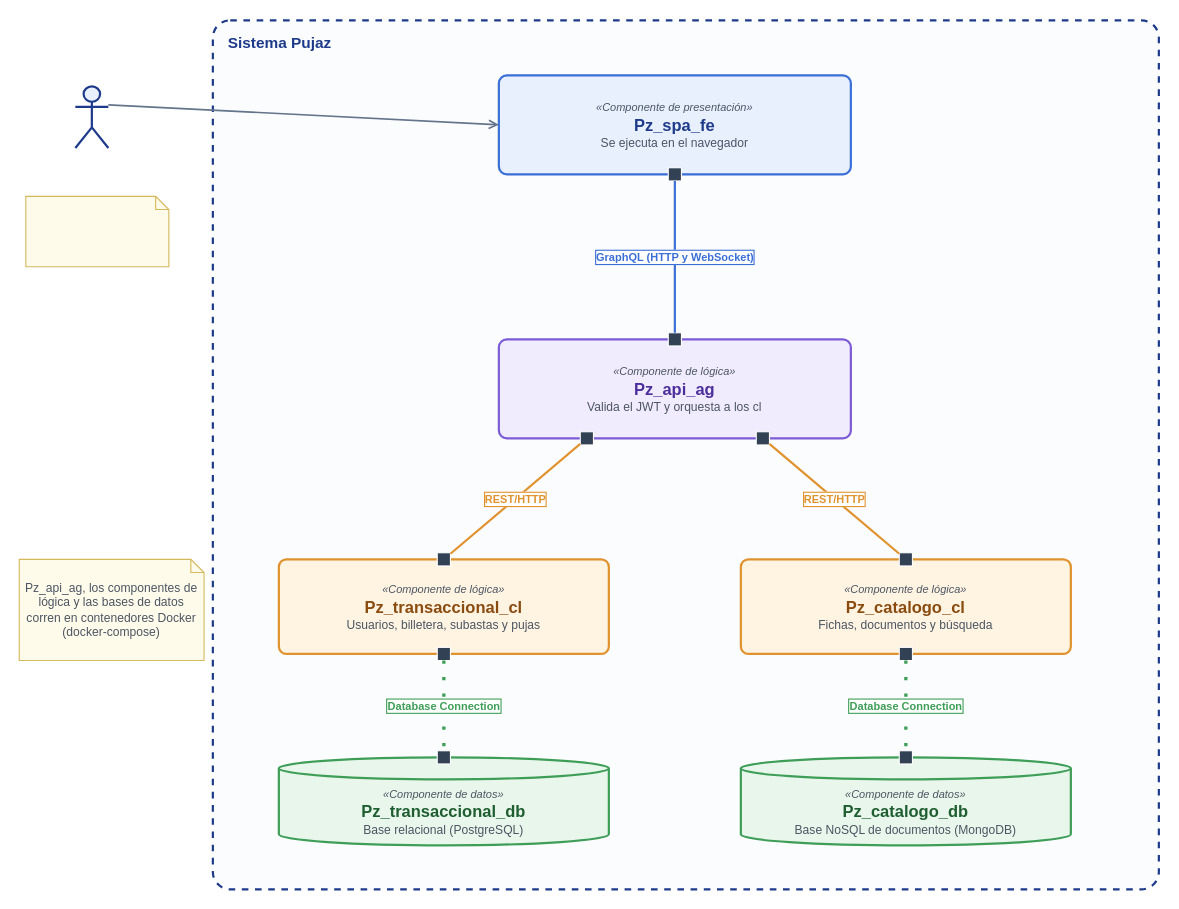
Some shapes in this 1179 by 909 pixel diagram are drawn without their labels. Here are the shapes that lost their labels. From the top down, the centre of each, then its label:
[91,116]: Usuario final
[97,231]: El usuario final se conecta con su navegador
